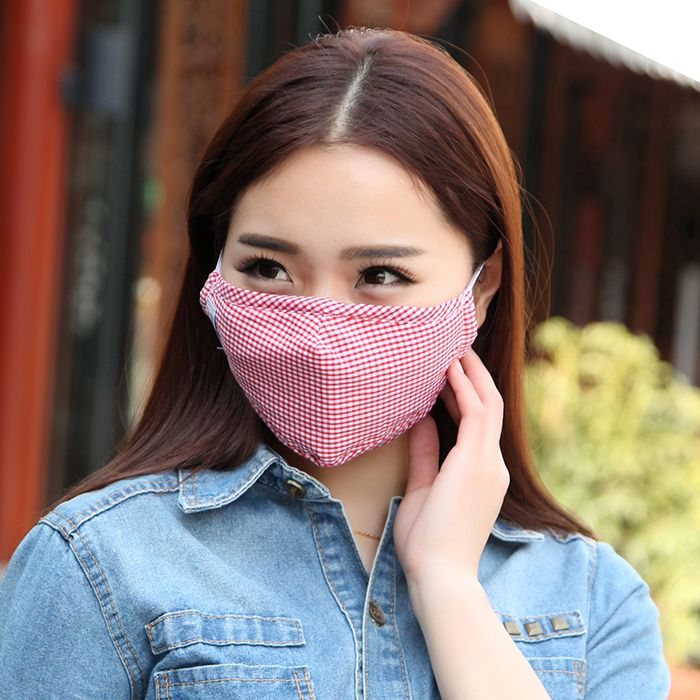face_mask: (219, 149, 465, 459)
